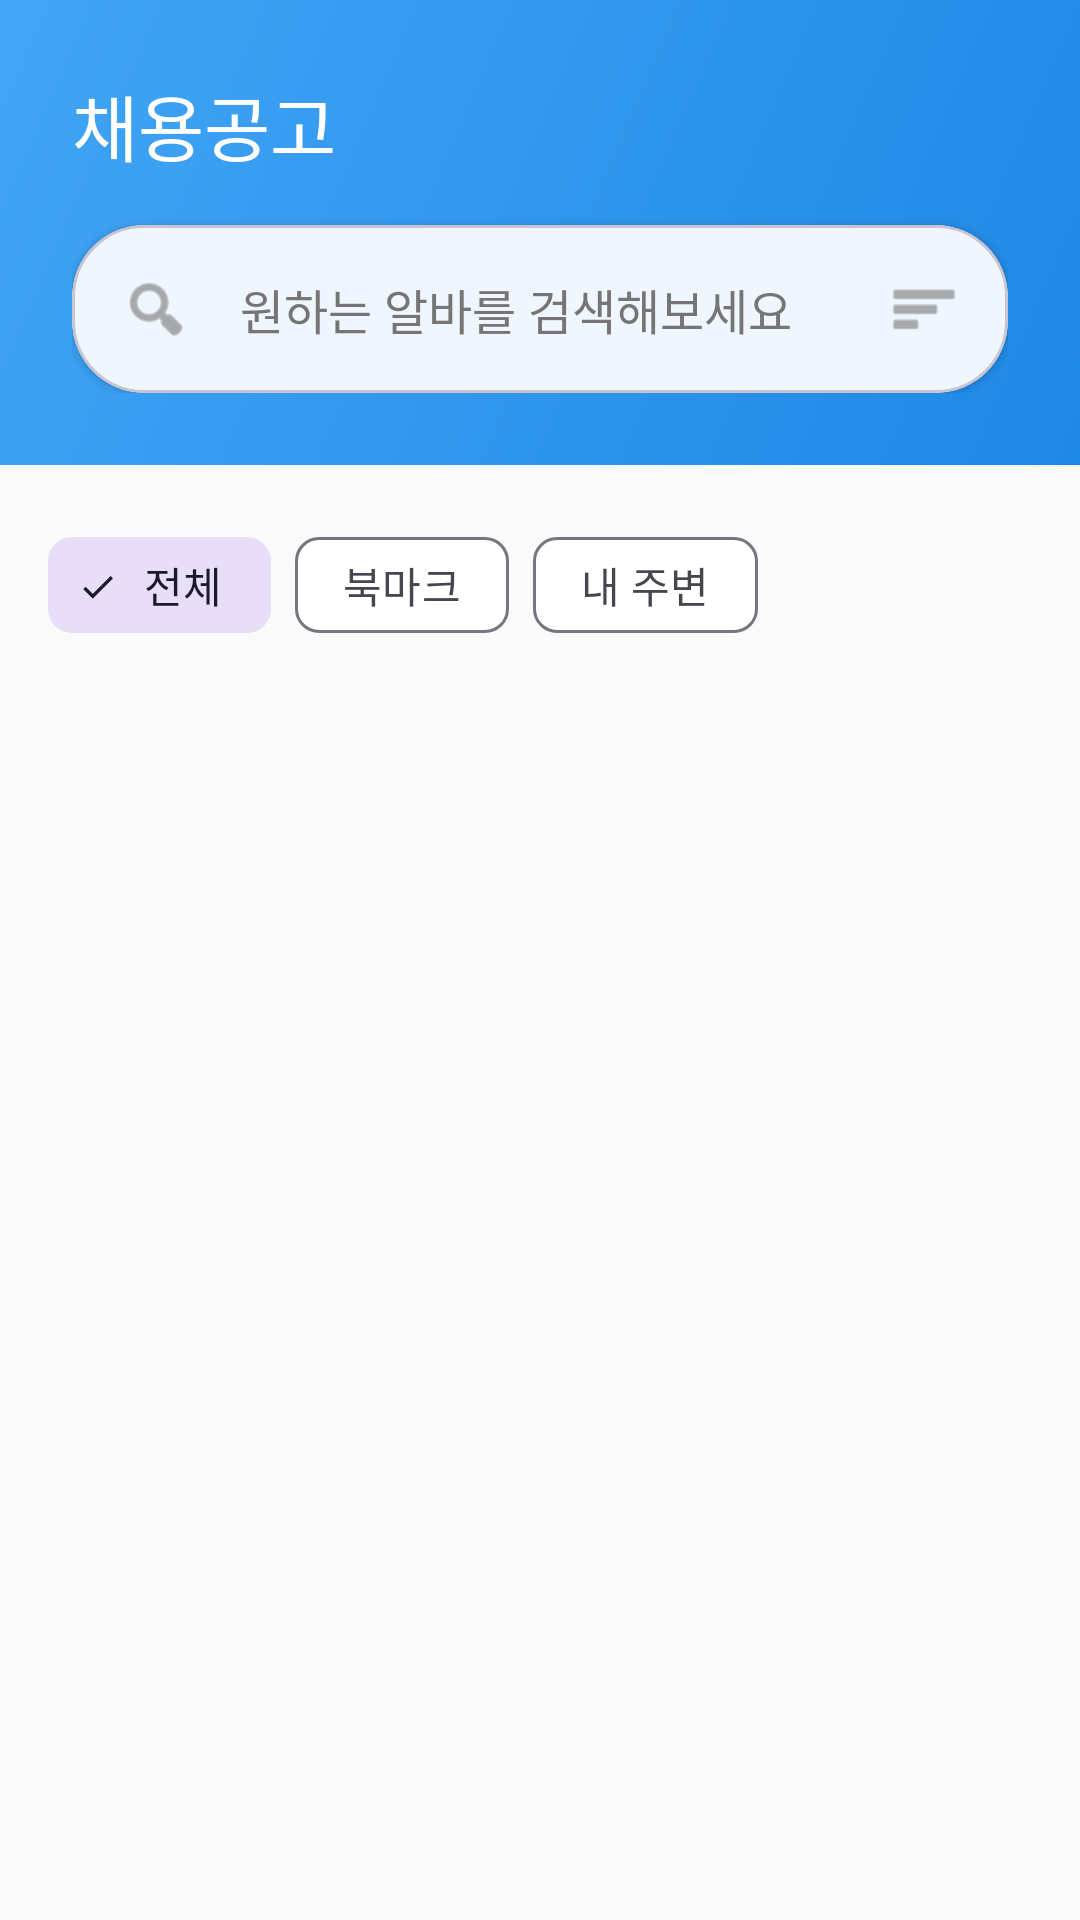

Named icons in this screenshot (1080*1920) and their centers, (x,y):
필터: (924,309)
